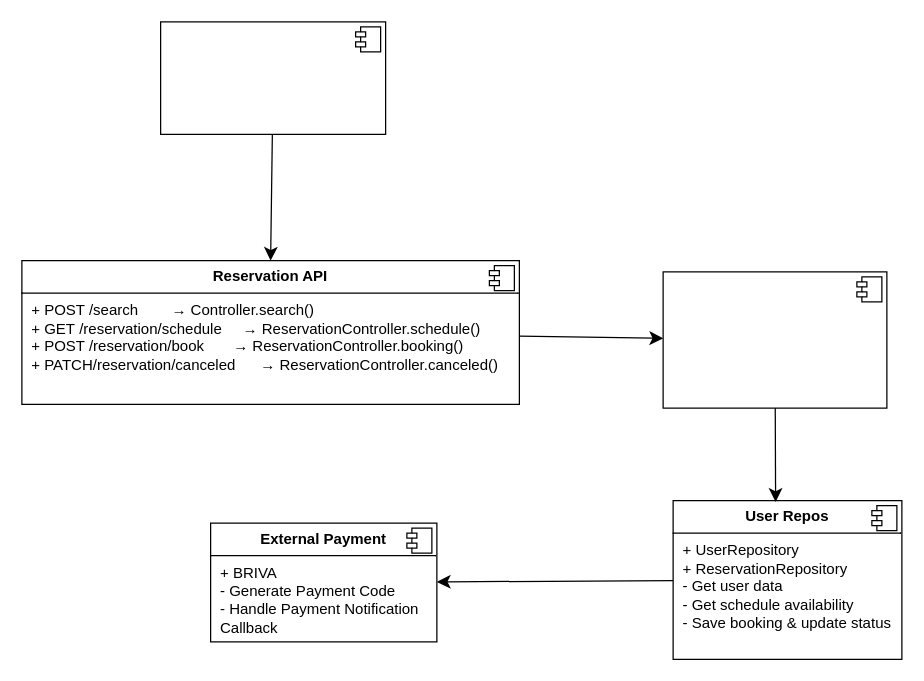
Some shapes in this 924 by 681 pixel diagram are drawn without their labels. Each missing label, with the centre of its shape:
"Client + Mobile: Flutter" goes at point 272,77.
"Reservation service + checking GET schedule + Validate JWT Token" goes at point 774,339.
